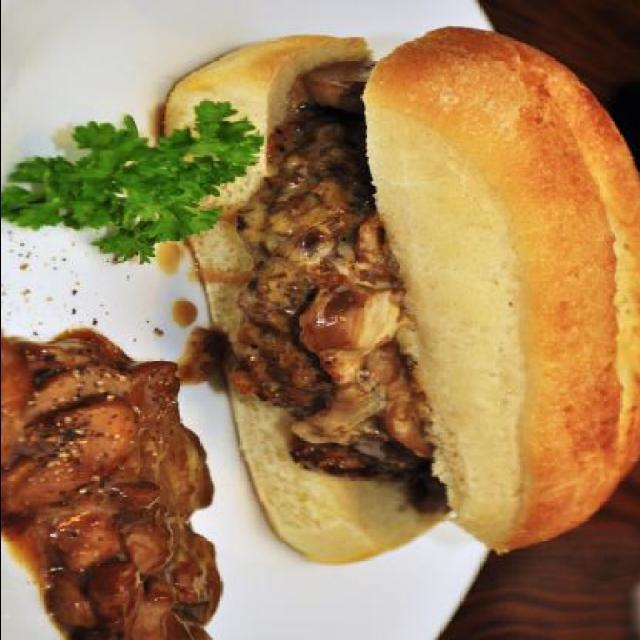Hamburger: (165, 26, 640, 566)
